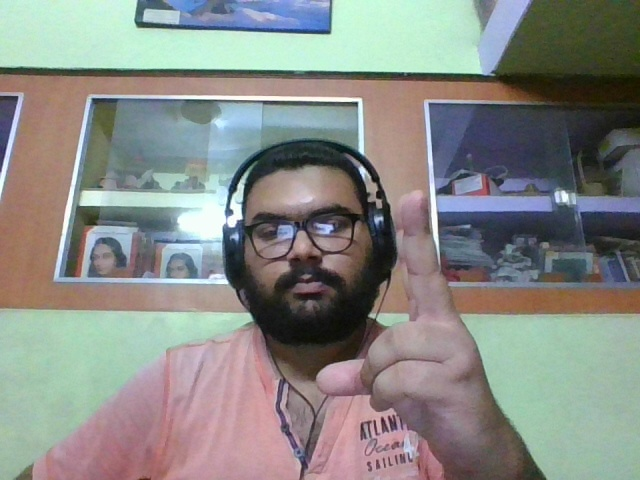iloveyou: (315, 189, 511, 449)
